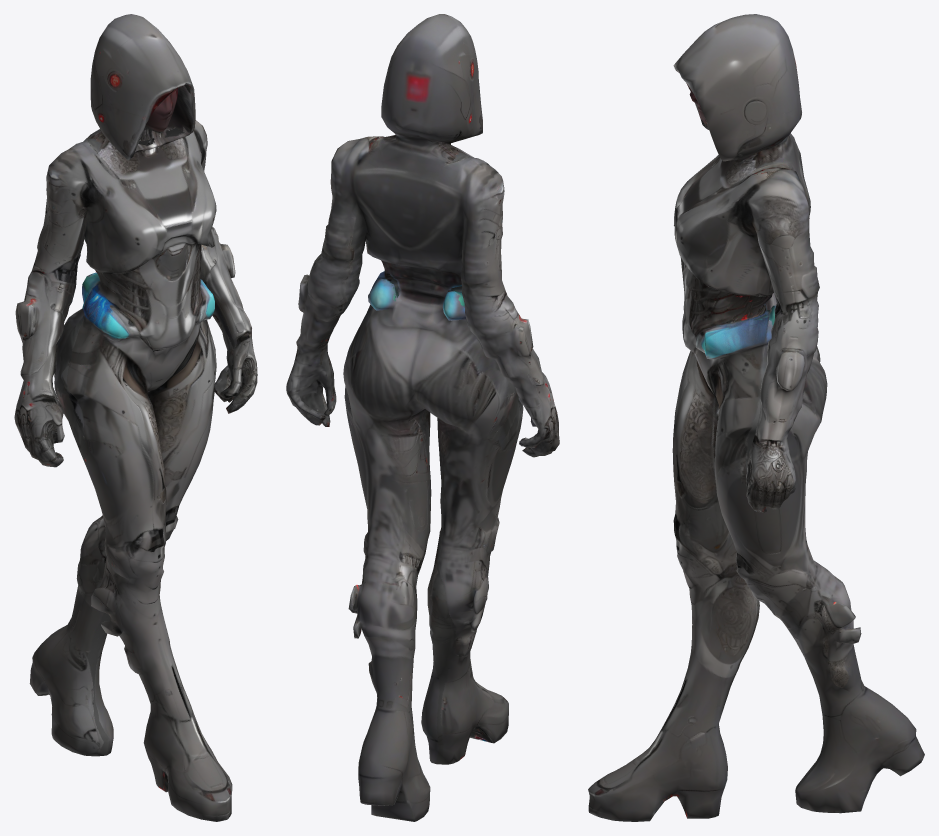
File: Ghost_Marvel_0521083918_texture.glb
3 renders of one model, left to right at view 1: azimuth 30°, elevation 25°; view 2: azimuth 150°, elevation 25°; view 3: azimuth 270°, elevation 25°, orthographic. The views are drawn at different scales.
Size of the model in its own units: 0.6849 by 2 by 0.7707.
1 material, 1 textured.
